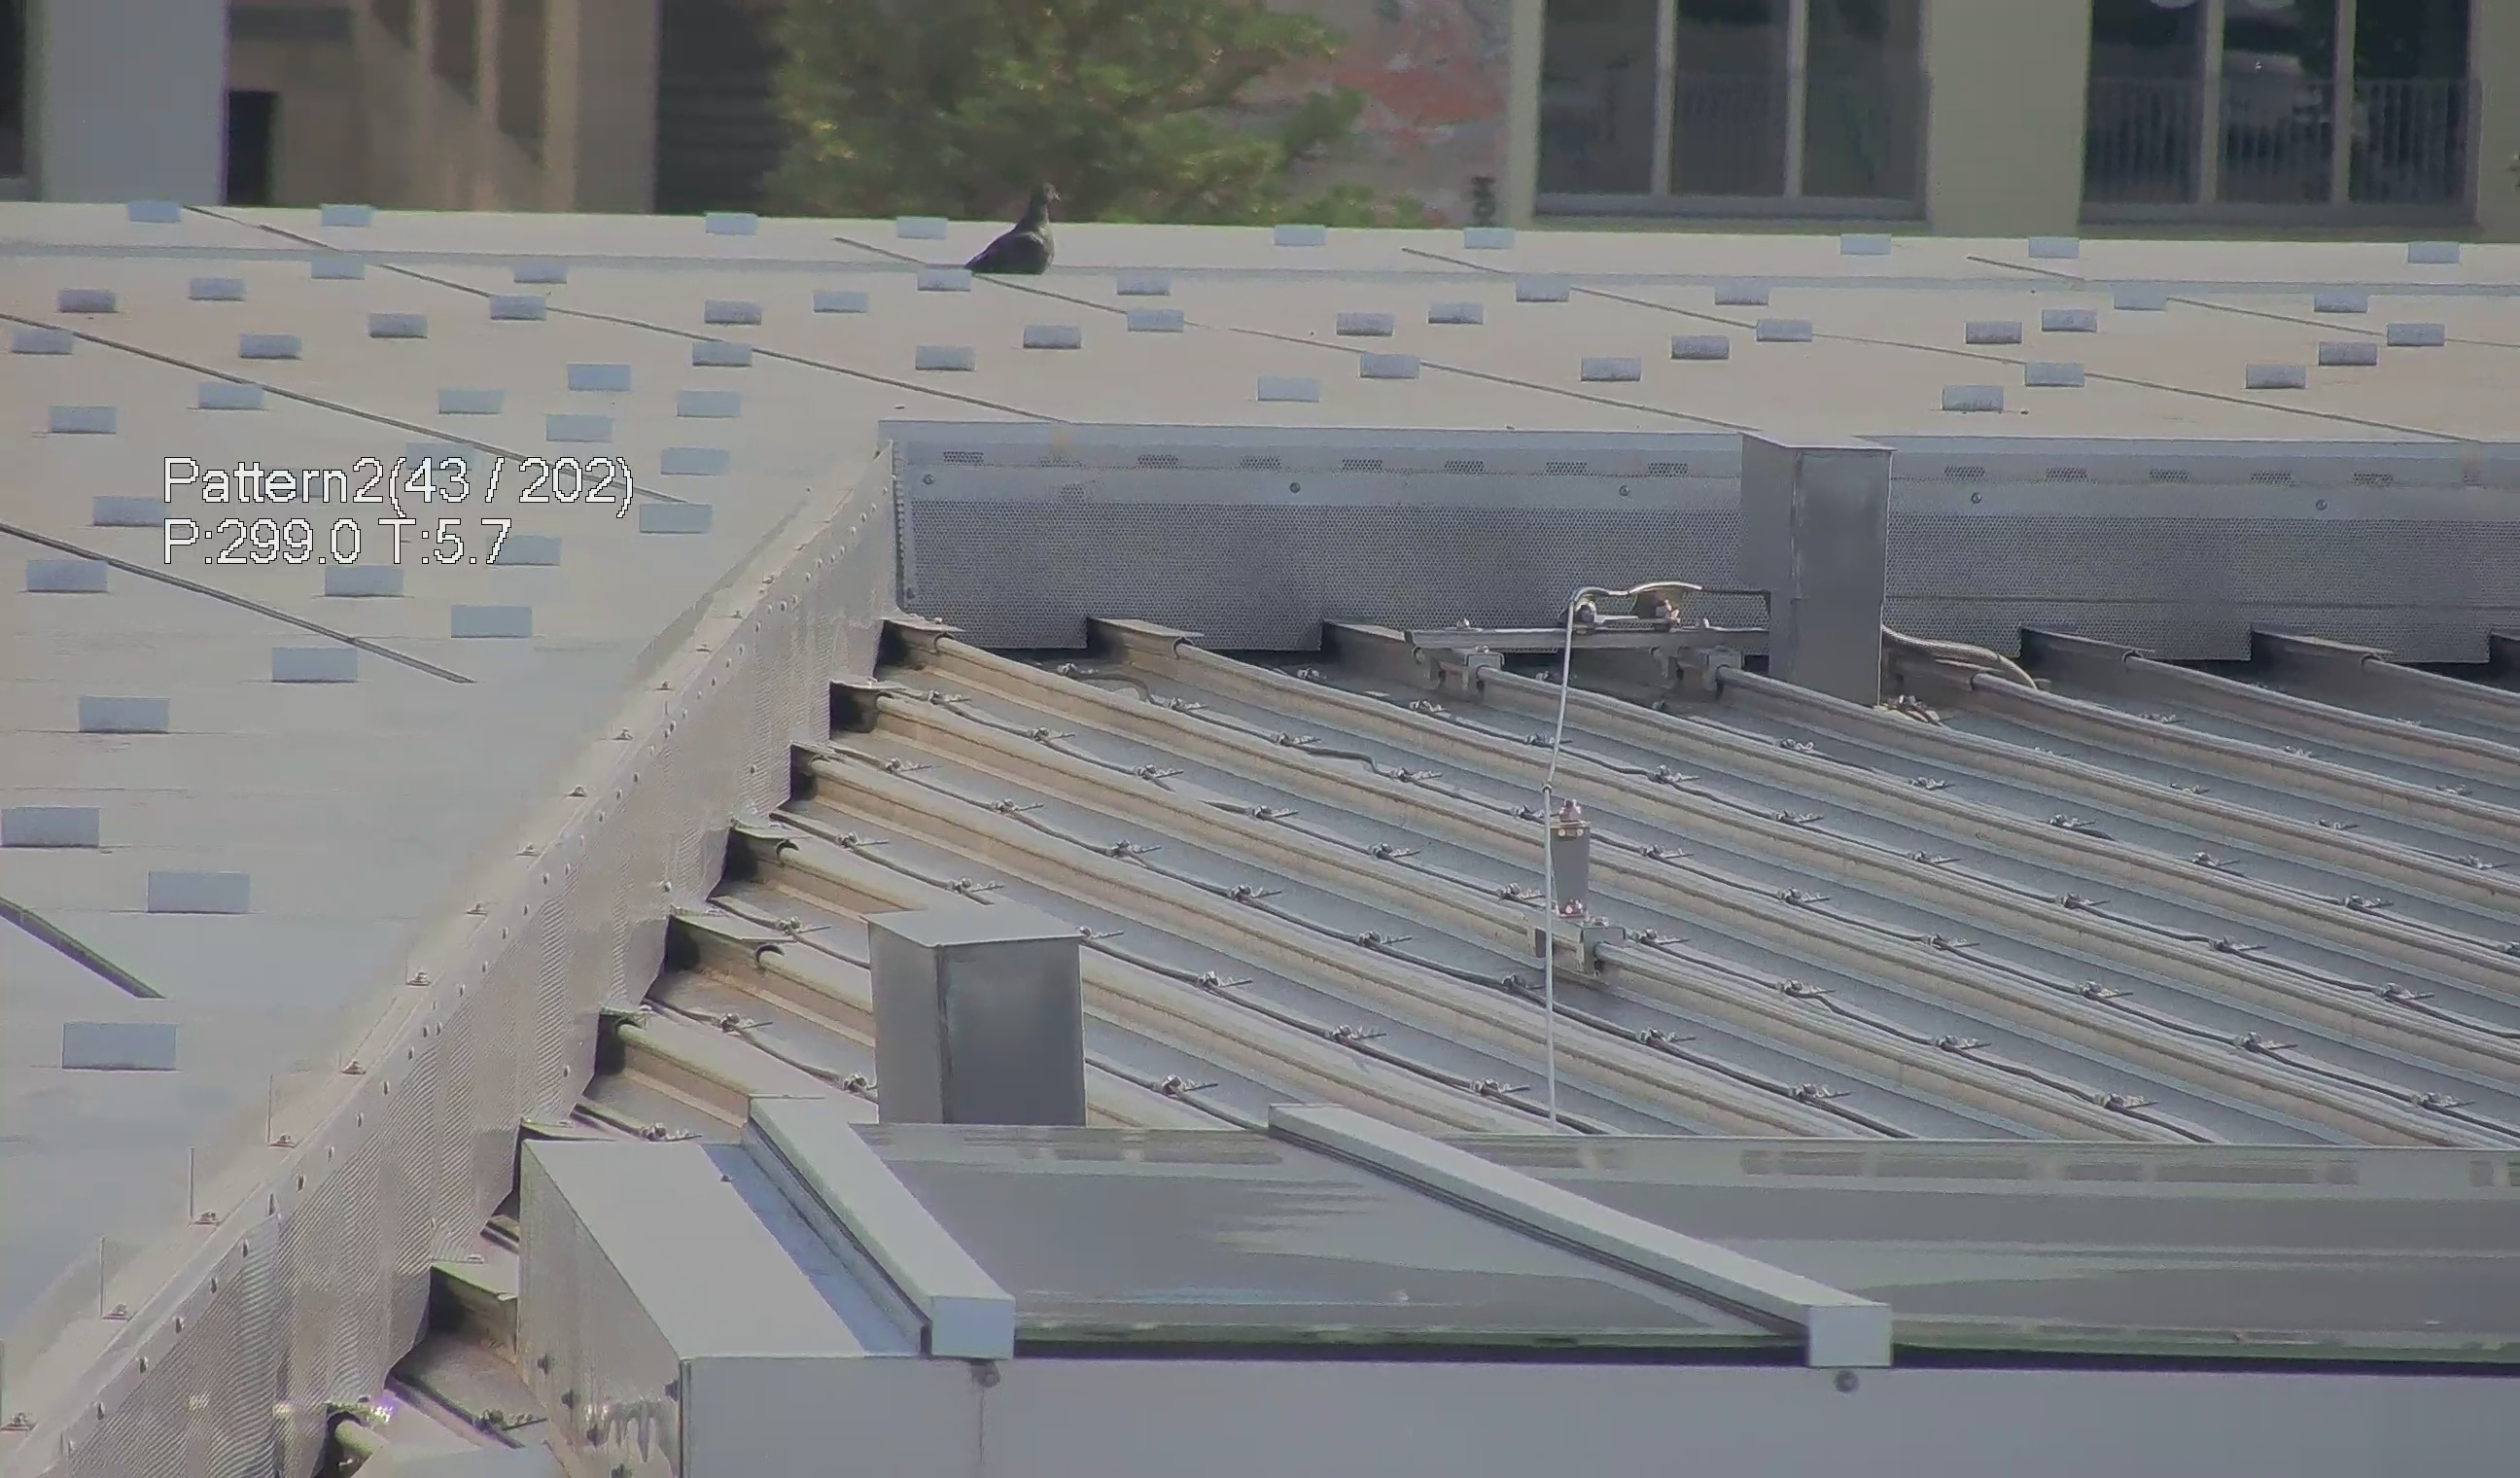Pigeon: (923, 172, 1060, 289)
